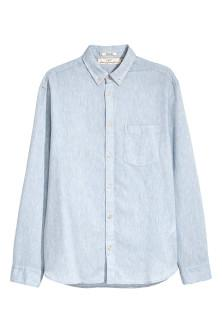teeshirt: (12, 43, 214, 294)
